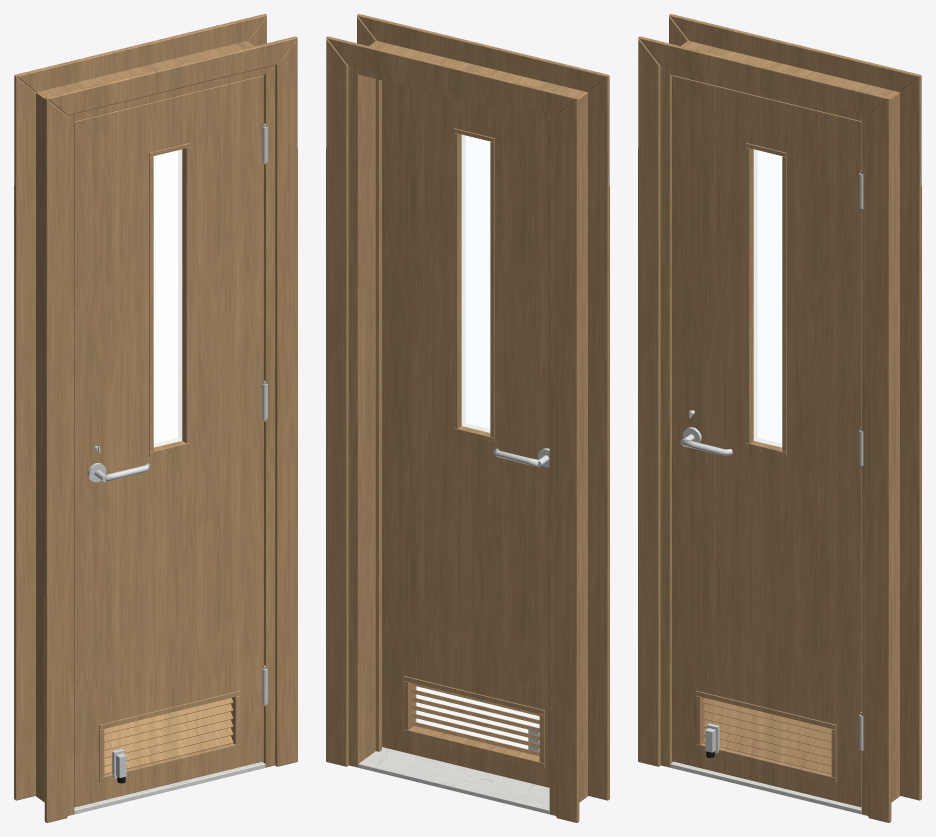
File: mk_door_bath_west_r.glb
3 renders of one model, left to right at view 1: azimuth 30°, elevation 25°; view 2: azimuth 150°, elevation 25°; view 3: azimuth 330°, elevation 25°, orthographic.
Parts seen in each view (by area): view 1: mk_door_bath_west_r_leaf_body, mk_door_bath_west_r_casing, mk_door_bath_west_r_frame, mk_door_bath_west_r_louver, mk_door_bath_west_r_glass_slit, mk_door_bath_west_r_handle, mk_door_bath_west_r_hinges; view 2: mk_door_bath_west_r_leaf_body, mk_door_bath_west_r_casing, mk_door_bath_west_r_frame, mk_door_bath_west_r_louver, mk_door_bath_west_r_glass_slit, mk_door_bath_west_r_handle; view 3: mk_door_bath_west_r_leaf_body, mk_door_bath_west_r_casing, mk_door_bath_west_r_frame, mk_door_bath_west_r_louver, mk_door_bath_west_r_glass_slit, mk_door_bath_west_r_handle, mk_door_bath_west_r_hinges.
Part boxes in pixels (bbox=[...]): mk_door_bath_west_r_leaf_body: bbox=[74, 75, 263, 807]; mk_door_bath_west_r_casing: bbox=[14, 14, 297, 822]; mk_door_bath_west_r_frame: bbox=[36, 40, 275, 815]; mk_door_bath_west_r_louver: bbox=[99, 143, 240, 782]; mk_door_bath_west_r_glass_slit: bbox=[153, 149, 182, 447]; mk_door_bath_west_r_handle: bbox=[87, 446, 150, 783]; mk_door_bath_west_r_hinges: bbox=[262, 123, 267, 706]; mk_door_bath_west_r_leaf_body: bbox=[382, 80, 549, 787]; mk_door_bath_west_r_casing: bbox=[326, 14, 609, 822]; mk_door_bath_west_r_frame: bbox=[348, 40, 587, 815]; mk_door_bath_west_r_louver: bbox=[403, 128, 544, 767]; mk_door_bath_west_r_glass_slit: bbox=[461, 134, 490, 432]; mk_door_bath_west_r_handle: bbox=[493, 448, 549, 751]; mk_door_bath_west_r_leaf_body: bbox=[672, 75, 861, 807]; mk_door_bath_west_r_casing: bbox=[638, 14, 921, 822]; mk_door_bath_west_r_frame: bbox=[660, 40, 899, 815]; mk_door_bath_west_r_louver: bbox=[695, 143, 836, 782]; mk_door_bath_west_r_glass_slit: bbox=[753, 149, 782, 447]; mk_door_bath_west_r_handle: bbox=[680, 410, 732, 757]; mk_door_bath_west_r_hinges: bbox=[859, 170, 863, 752].
Size of the model in its own units: 0.7669 by 2.11 by 0.2148.
Materials: 5 (2 with a texture image).
